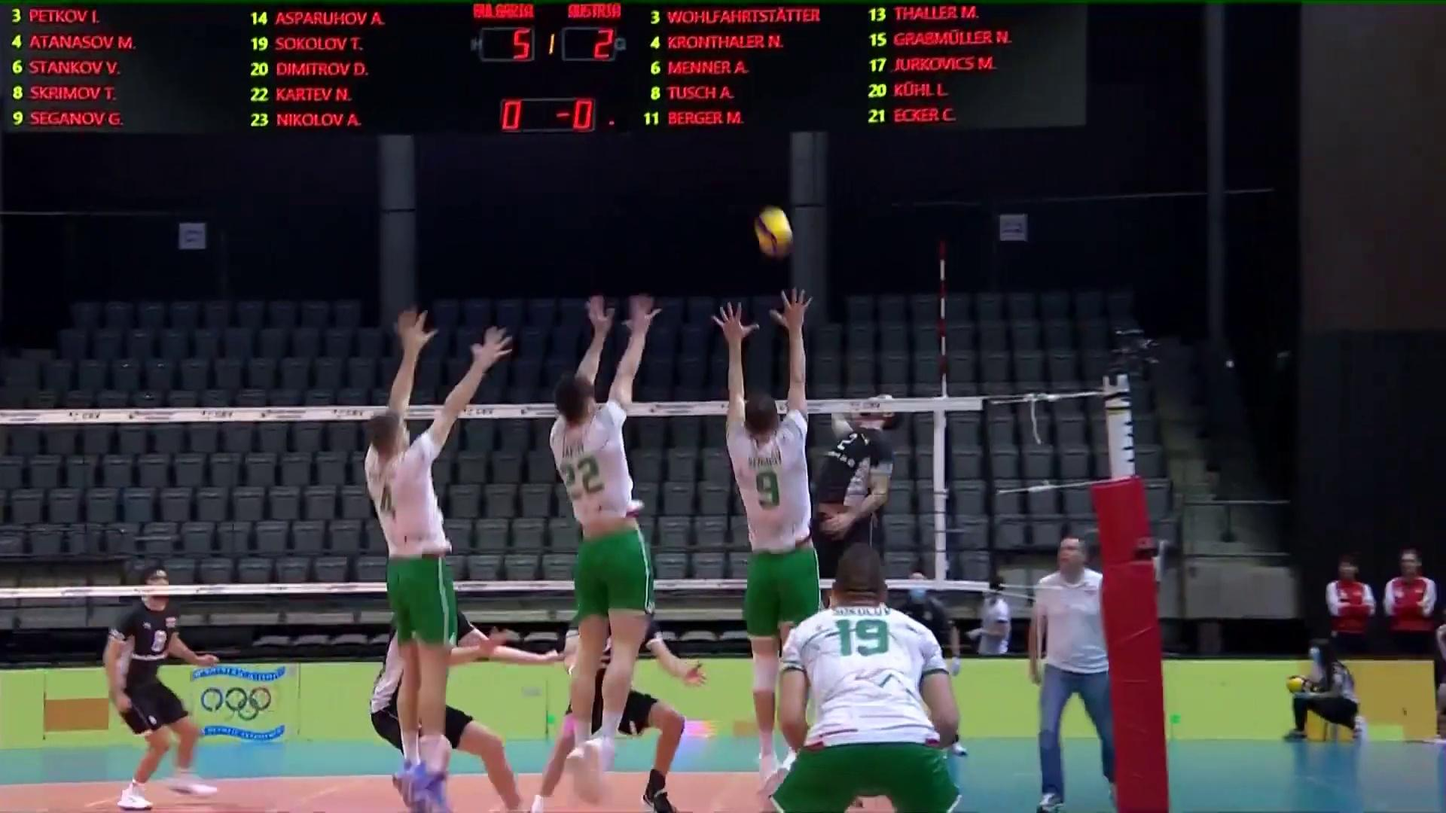ball: (755, 206, 796, 261)
